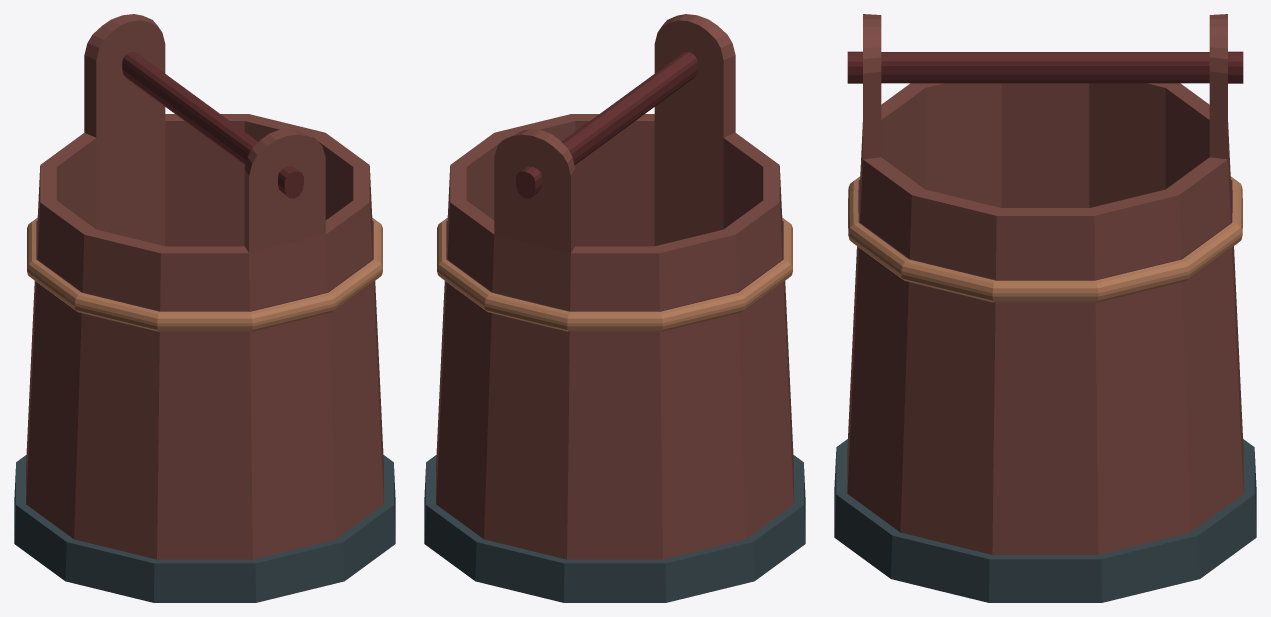
Rendered from Bucket.fbx.
3 views of the same model, side by side, from view 1: azimuth 30°, elevation 25°; view 2: azimuth 150°, elevation 25°; view 3: azimuth 270°, elevation 25° (orthographic). The views are drawn at different scales.
Visible parts, largest first — view 1: Cylinder; view 2: Cylinder; view 3: Cylinder.
Boxes of the visible parts, x1,y1,x2,y2 form: Cylinder: [14, 14, 395, 602]; Cylinder: [424, 14, 805, 602]; Cylinder: [834, 14, 1256, 602].
Bounding box in the file's own units: 40.77 × 52.73 × 40.77.
